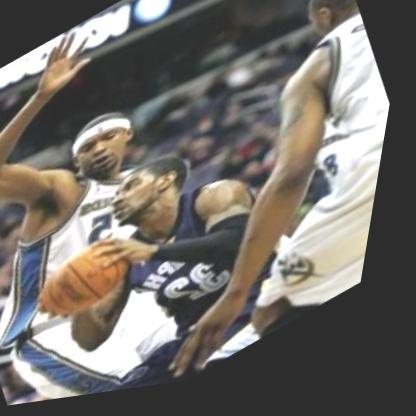basketball: (32, 227, 158, 341)
